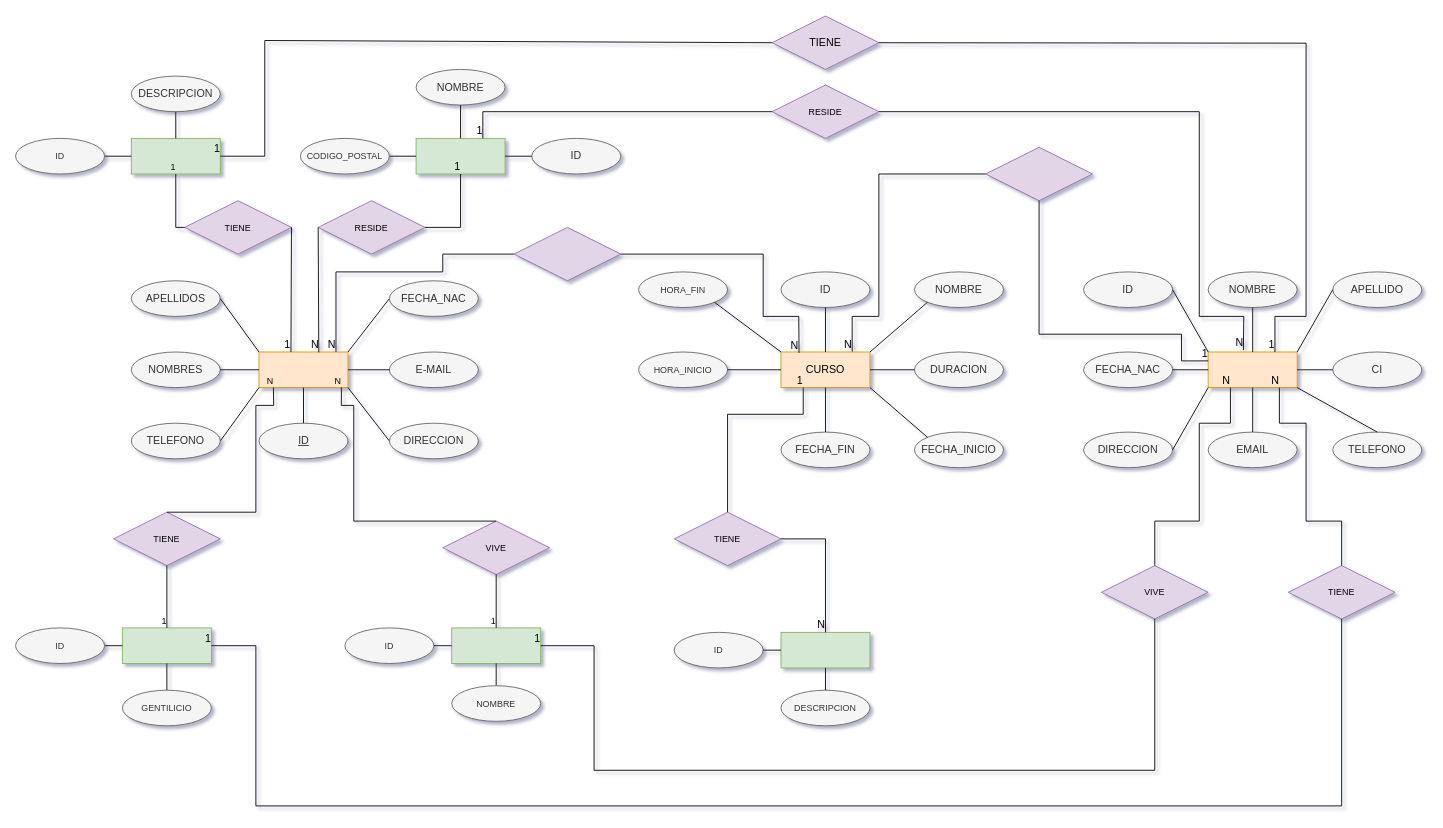
The diagram is 1443 pixels wide and 828 high, and some of its shapes have lost their labels. Each missing label, with the centre of its shape:
"Alumno" belongs at [303,369].
"ASISTE" belongs at [567,254].
"BARRIO" belongs at [496,645].
"CIUDADES" belongs at [460,156].
"IMPARTE" belongs at [1038,173].
"NACIONALIDAD" belongs at [166,645].
"PROFESOR" belongs at [1252,369].
"SEXO" belongs at [175,156].
"TURNO" belongs at [825,649].
